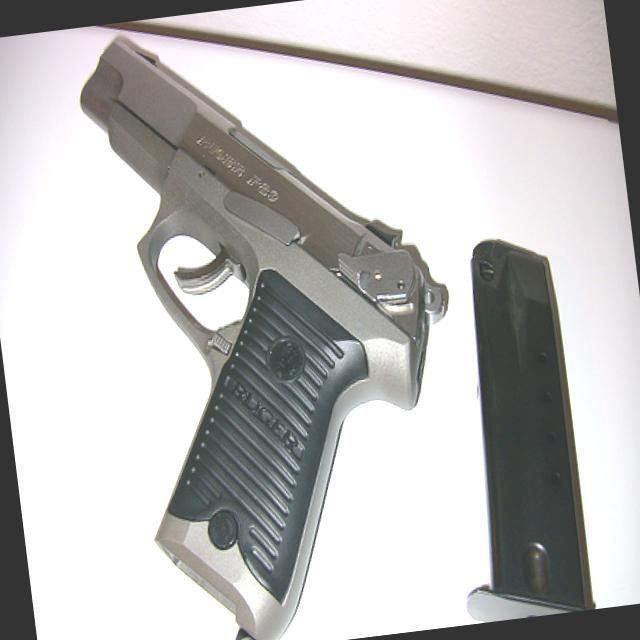handgun: (61, 0, 489, 639)
